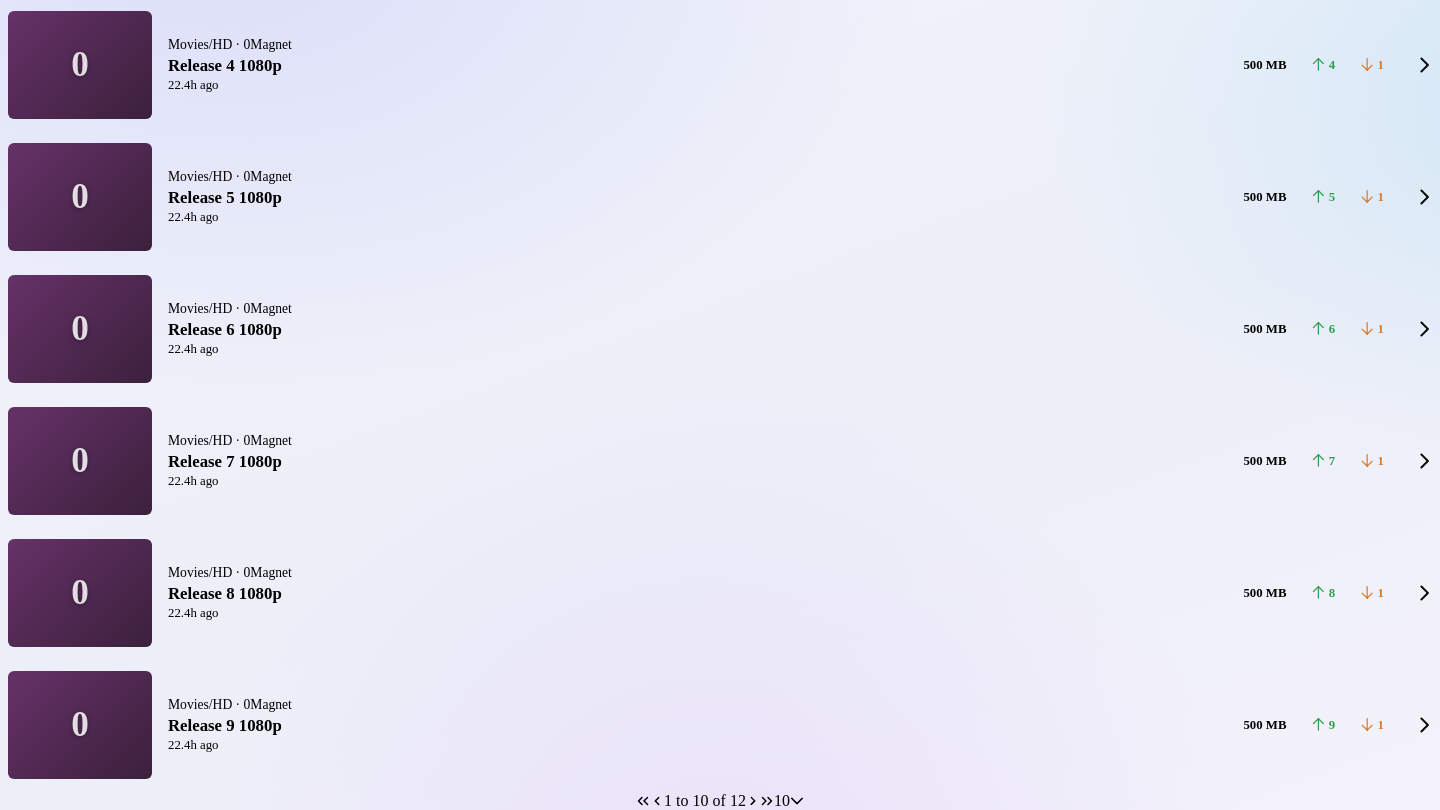
SearchResultList › paginates: jumping to the next page shows the remaining rows
(page scrolled)
Step 1. Click the button named "Next Page" → (753, 801), box x1=746 y1=794 x2=760 y2=808
(page scrolled)
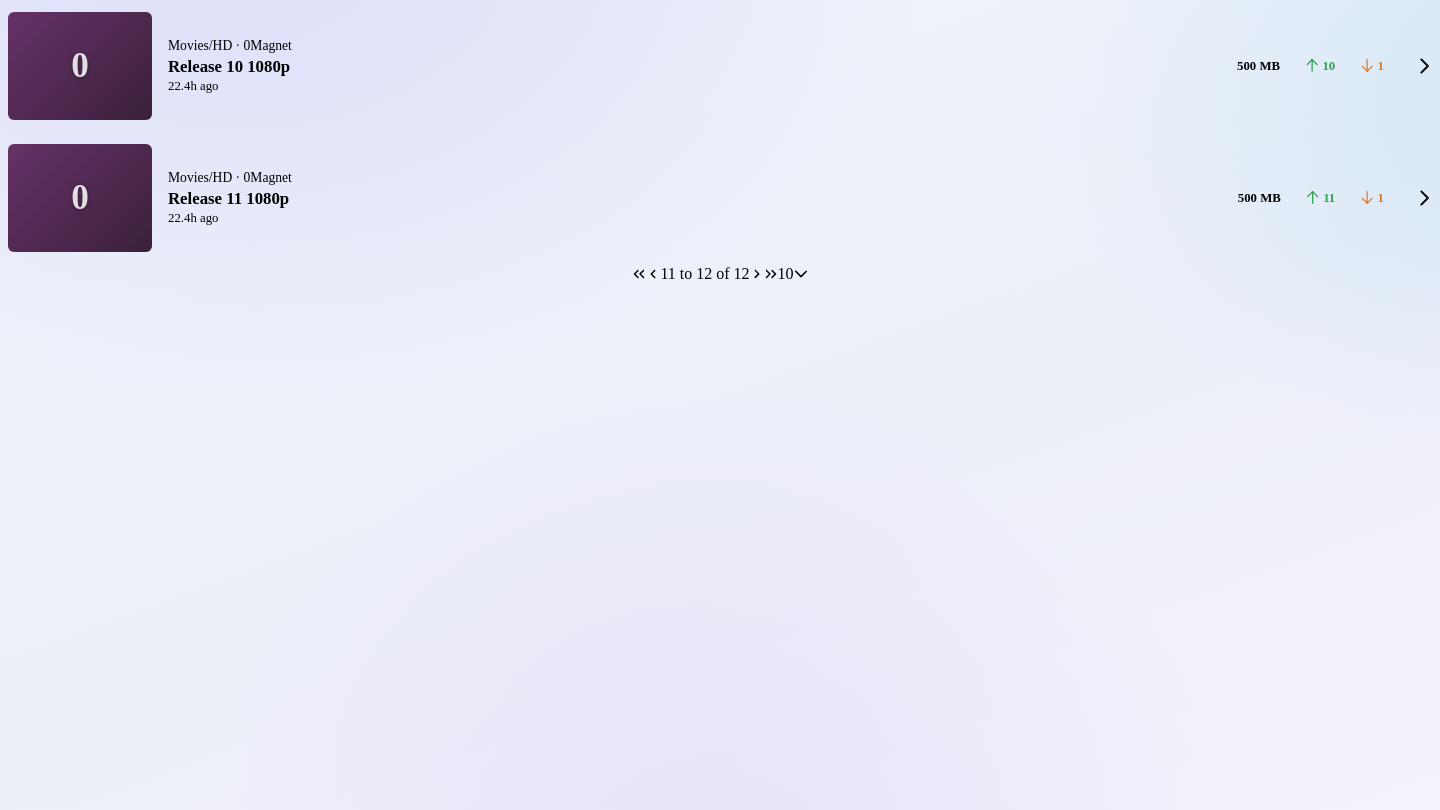
Now the number of elements with class "result-card" is 2, box x1=0 y1=0 x2=1439 y2=132; x1=0 y1=132 x2=1439 y2=264
Now the heading with class "card-title" reads "Release 10 1080p", box x1=168 y1=56 x2=290 y2=76
